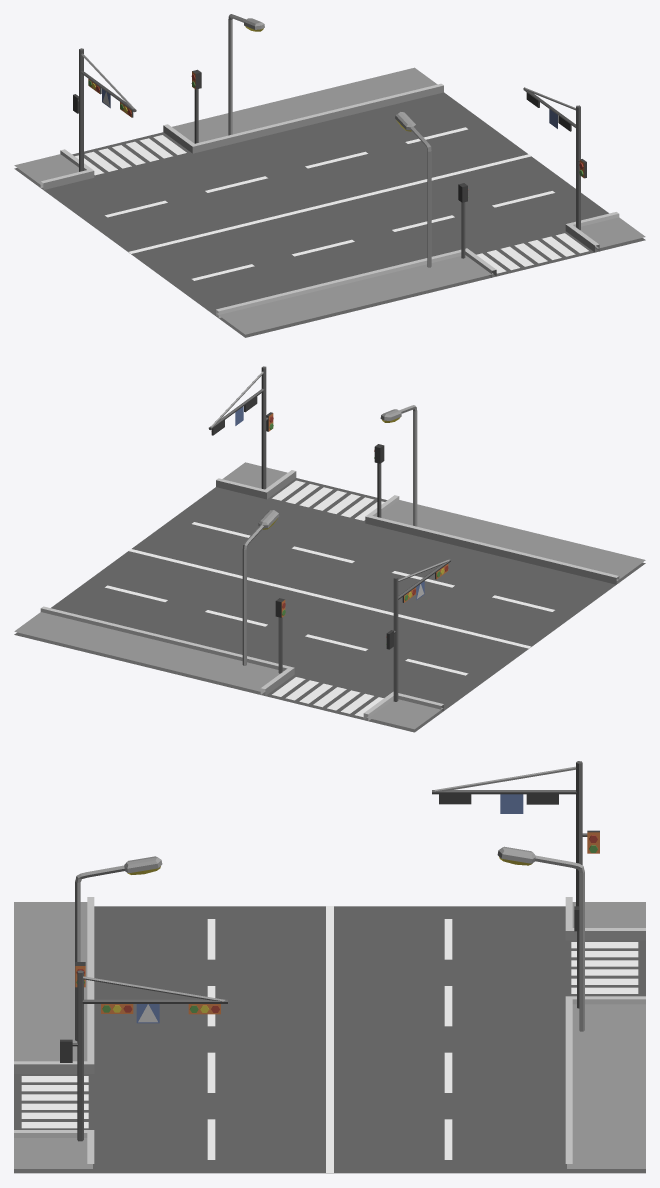
File: road_tile_2x2_006.glb
3 renders of one model, top to bottom at view 1: azimuth 30°, elevation 25°; view 2: azimuth 150°, elevation 25°; view 3: azimuth 270°, elevation 25°, orthographic. The views are drawn at different scales.
Parts seen in each view (by area): view 1: road_tile_2x2_006; view 2: road_tile_2x2_006; view 3: road_tile_2x2_006.
Part boxes in pixels (box(x1,y1,x2,y2)): road_tile_2x2_006: box(14, 14, 645, 337); road_tile_2x2_006: box(14, 366, 645, 732); road_tile_2x2_006: box(14, 761, 645, 1173).
Bounding box in the file's own units: 16 × 5.25 × 16.
Materials: 1 (1 with a texture image).
